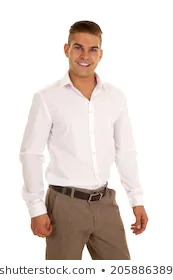F_belt: (51, 183, 111, 198)
F_shirt: (19, 74, 145, 210)
